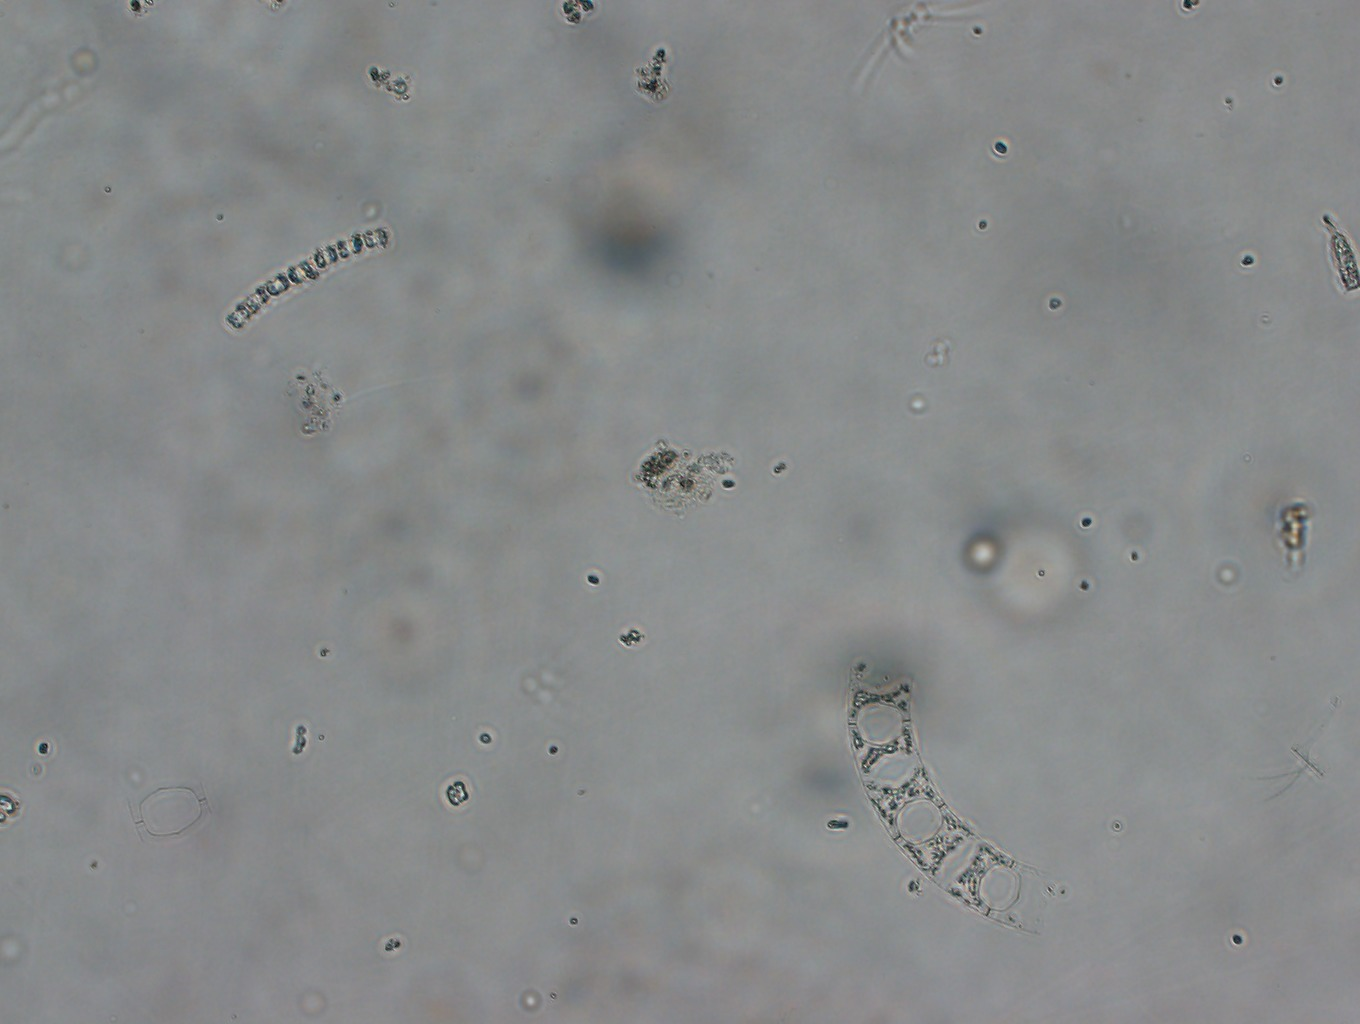eucampia: (848, 645, 1059, 936)
